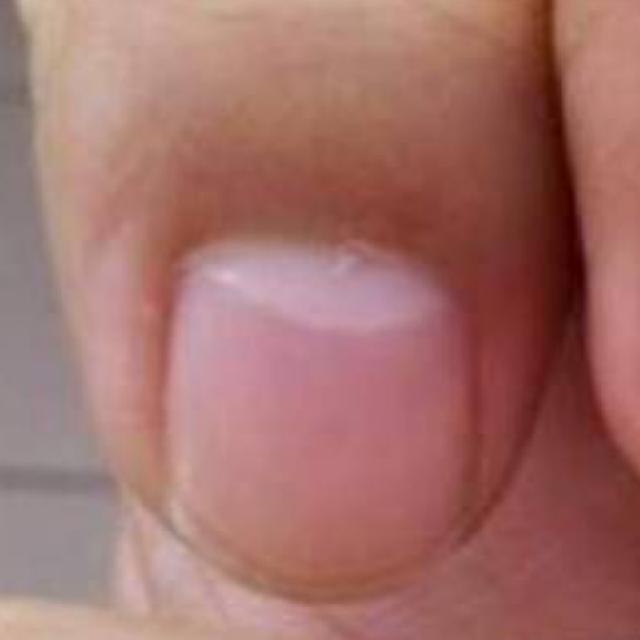Nail: (165, 238, 476, 590)
